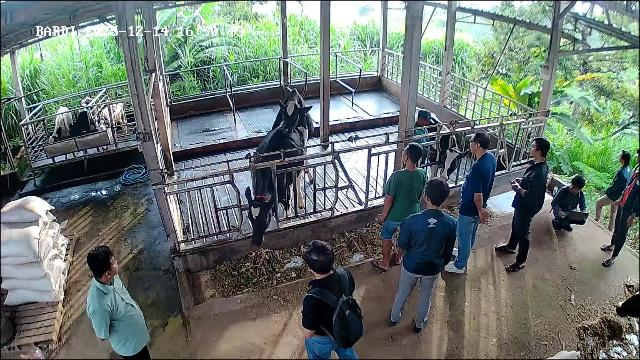mounting: (270, 86, 315, 185)
